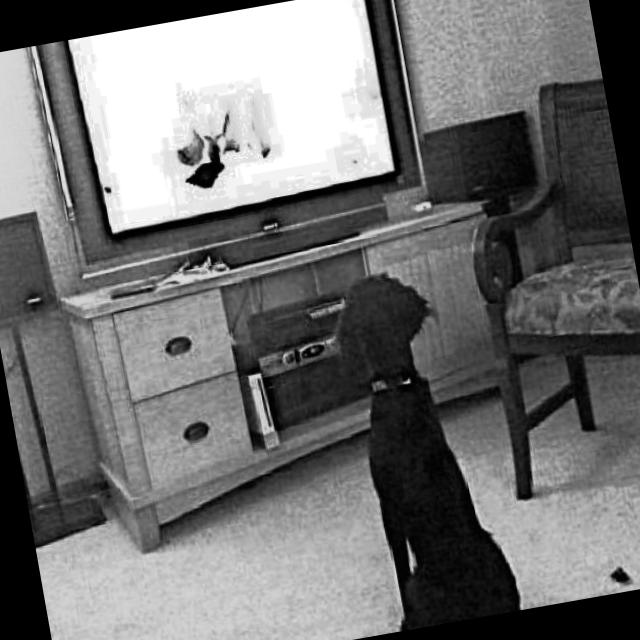Dog: (312, 248, 527, 635)
